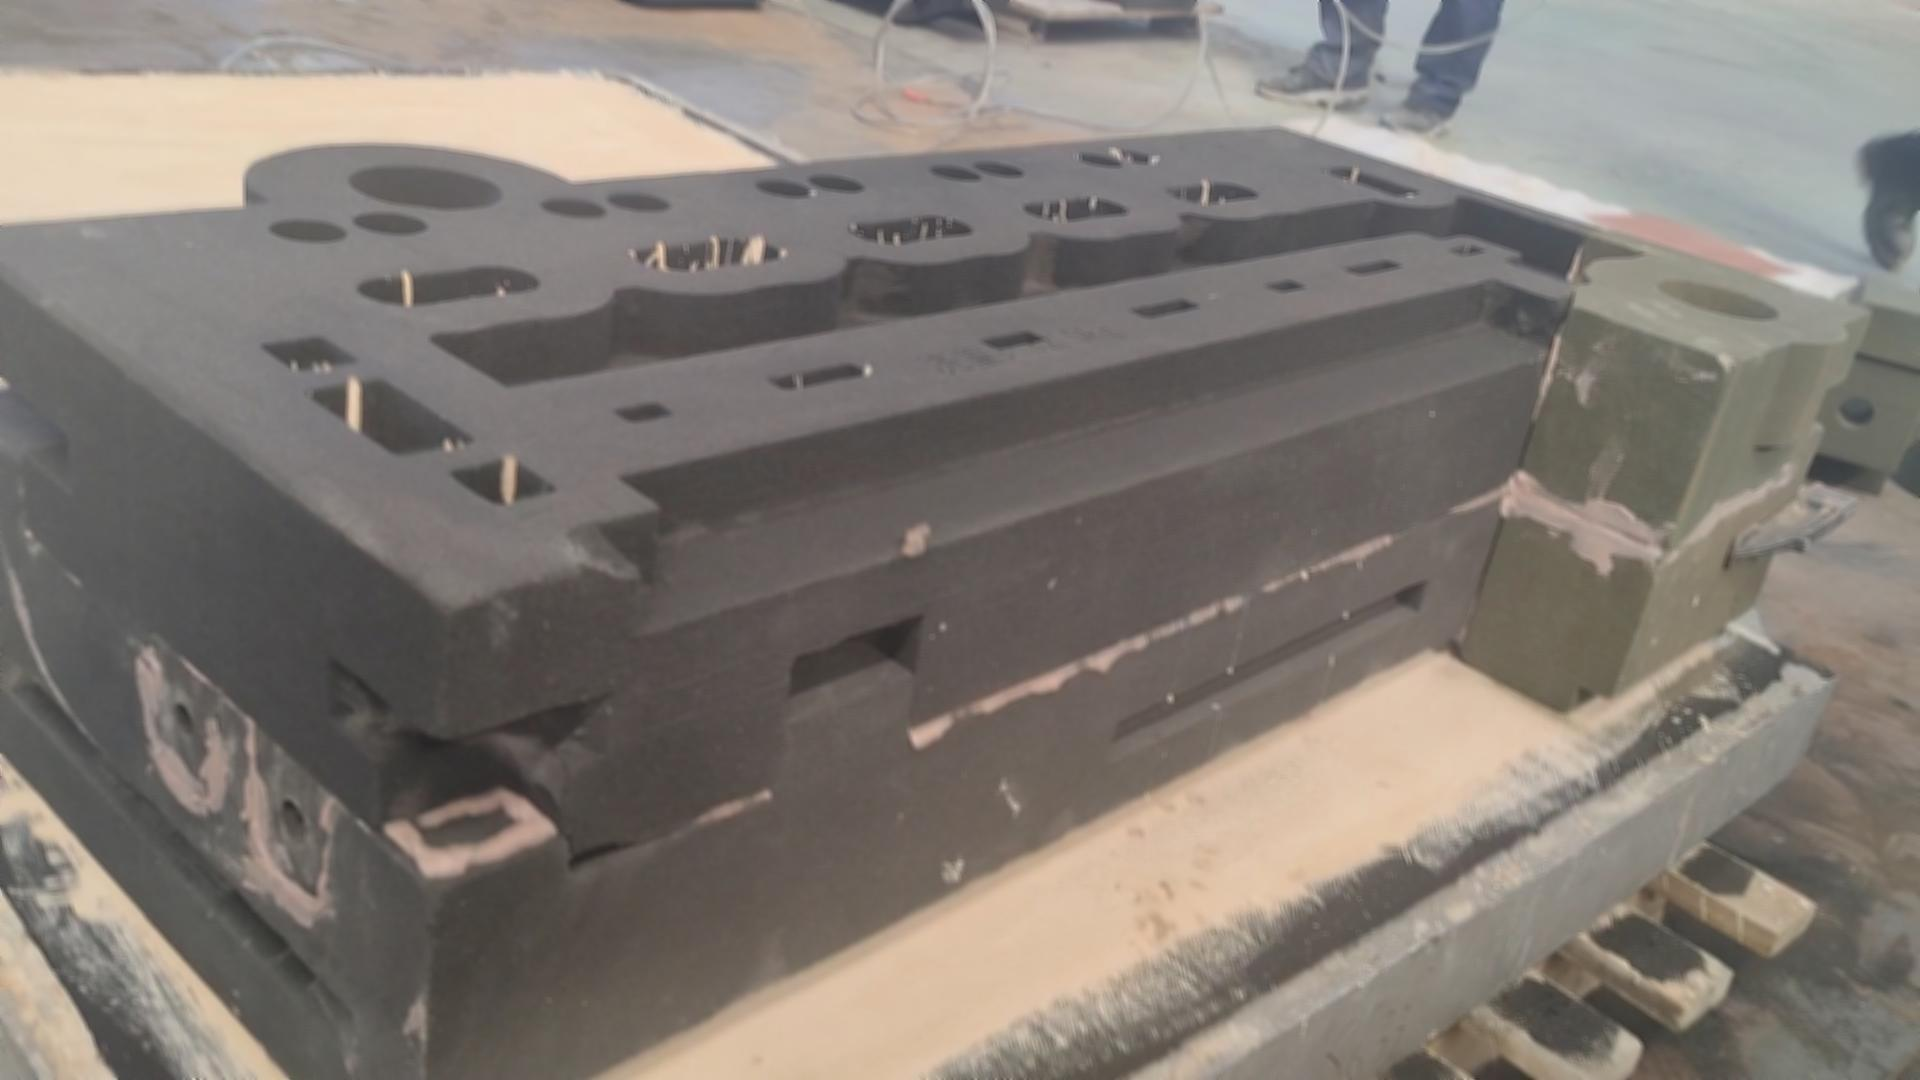pouring hole: (347, 162, 504, 211), (1658, 276, 1782, 324)
